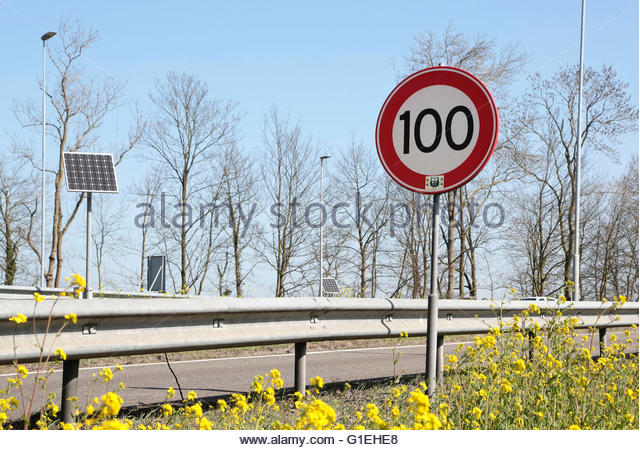Speed_limit_100km: (376, 65, 499, 196)
